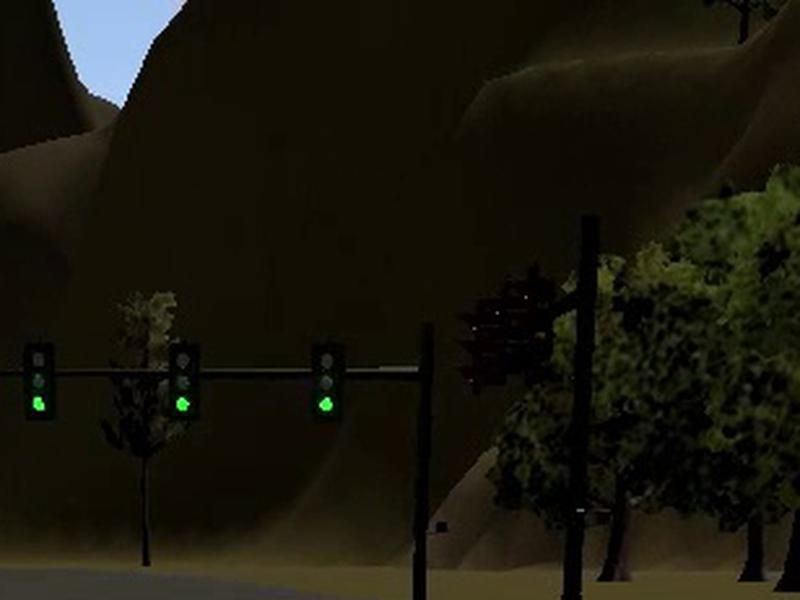Green: (312, 343, 346, 421), (168, 343, 202, 419), (25, 344, 57, 421)
